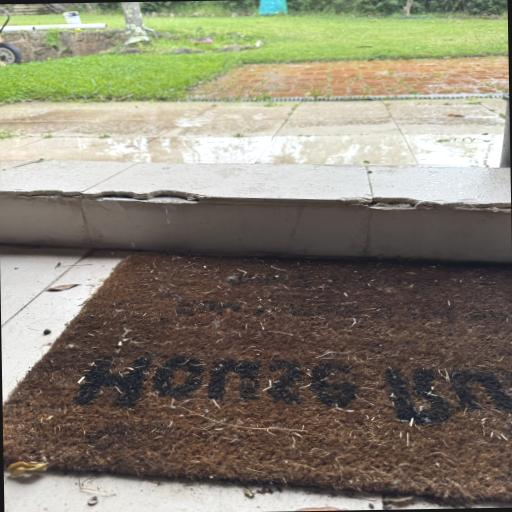step: (0, 154, 512, 263)
